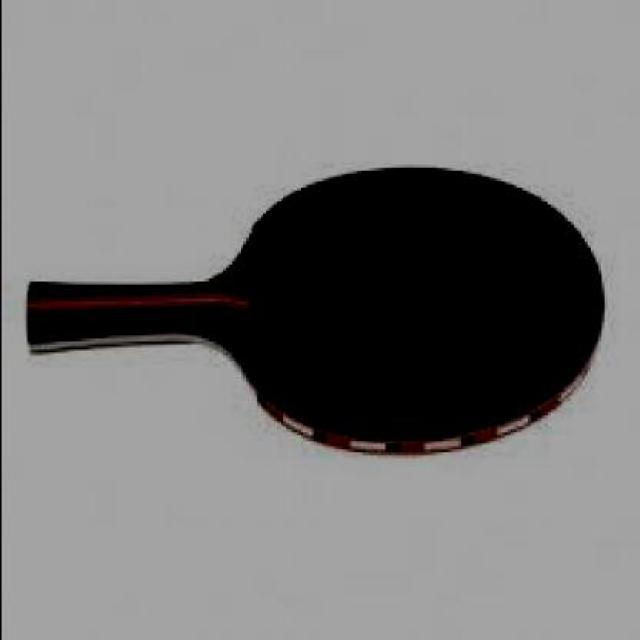table_tennis_racket: (221, 156, 605, 458)
